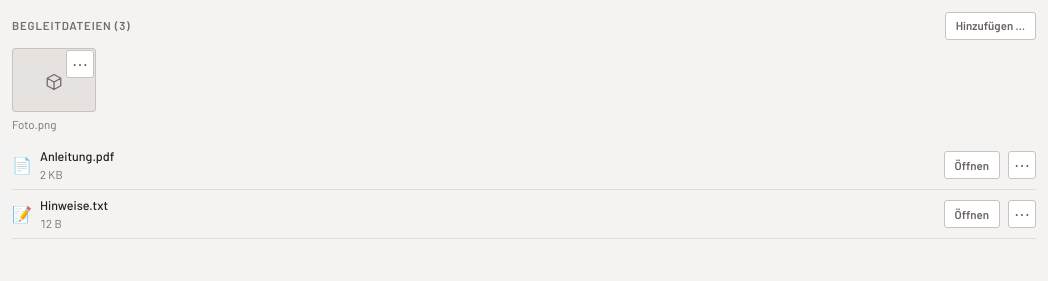
Test: restoring removed companions › offers "Rückgängig" in the notice, restores that file, reloads and keeps focus in the section
Expected: the text "Anleitung.pdf" is shown, [40, 148, 114, 164]
Click the button named "Weitere Aktionen für Anleitung.pdf".
click(1022, 165)  # box [1008, 151, 1036, 179]
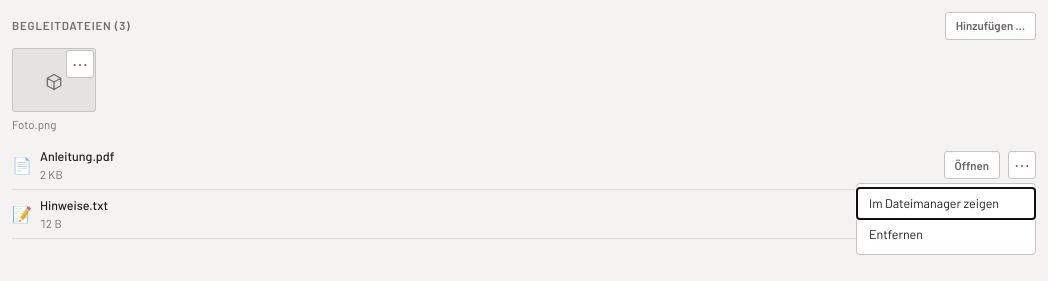
Click the menu item "Entfernen".
click(946, 234)  # box [857, 219, 1035, 250]
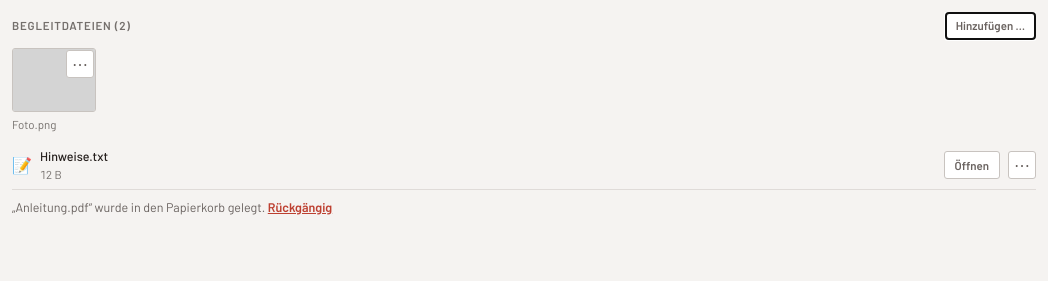
Click the button "Rückgängig".
click(300, 208)  # box [268, 198, 332, 217]
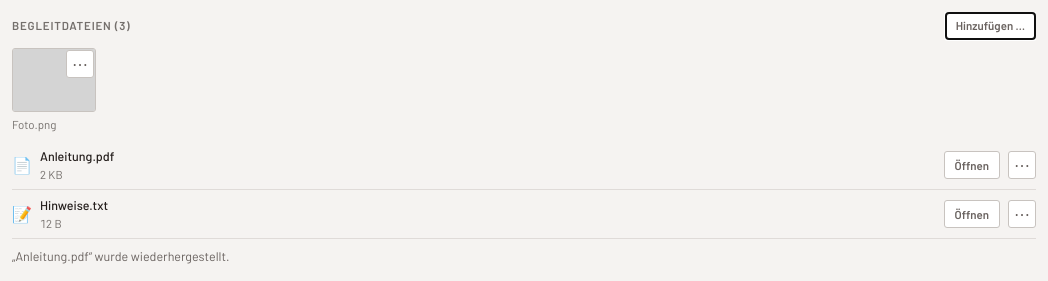
Expected: the text "„Anleitung.pdf“ wurde wiederhergestellt." is shown, [12, 248, 229, 264]
Expected: the heading "Begleitdateien (3)" is shown, [12, 18, 130, 32]
Expected: the button "Rückgängig" is gone
